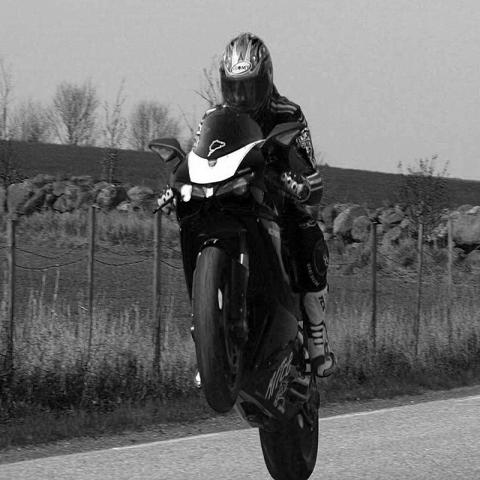motorcycle: (161, 106, 322, 475)
